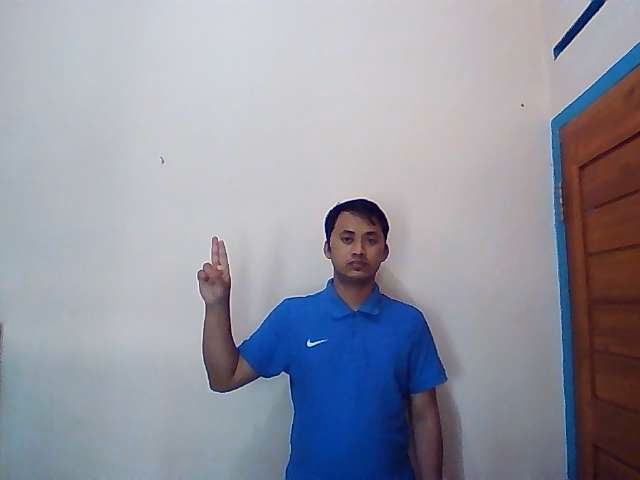U: (196, 236, 232, 302)
